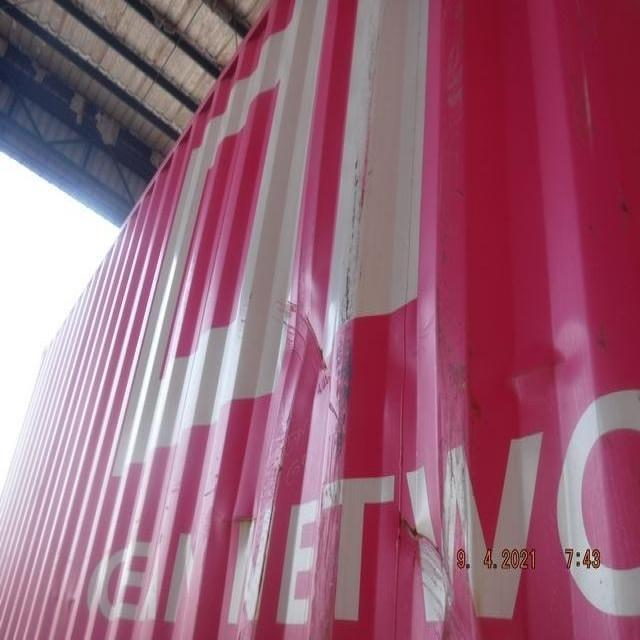Dent: (243, 262, 360, 430)
Minor-Dent: (460, 313, 599, 411), (388, 506, 486, 630), (199, 483, 280, 556)
